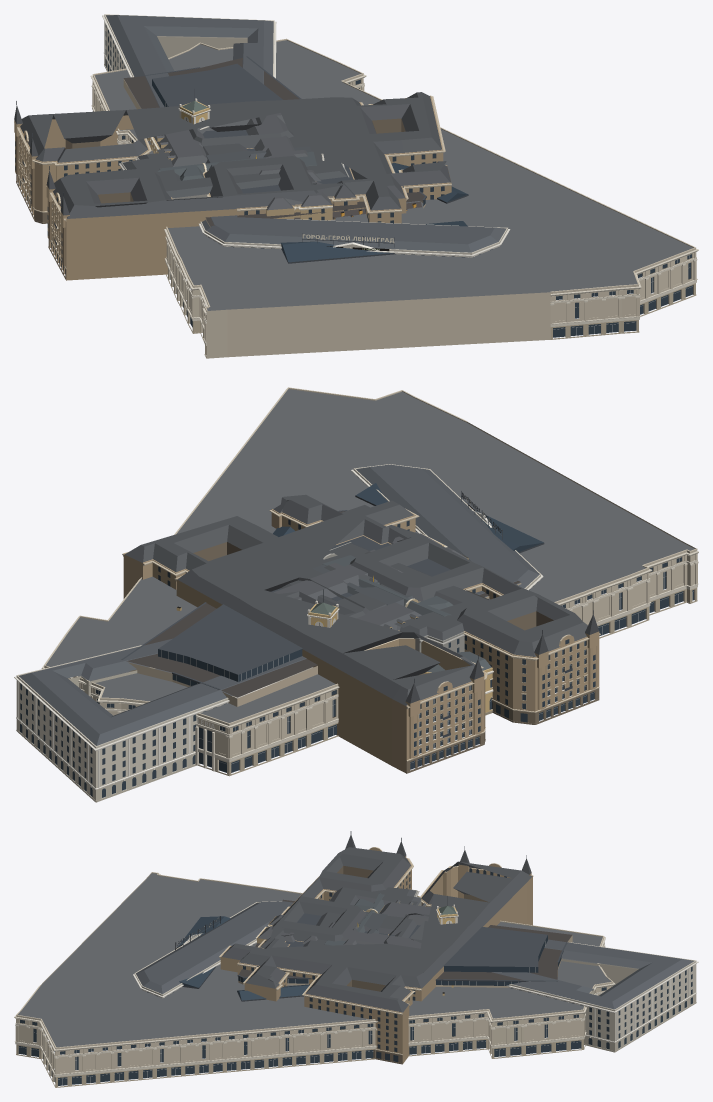
Rendered from ligovsky.glb.
3 renders of one model, top to bottom at view 1: azimuth 30°, elevation 25°; view 2: azimuth 150°, elevation 25°; view 3: azimuth 270°, elevation 25°, orthographic. The views are drawn at different scales.
Visible parts, largest first — view 1: hero__8522850_mesh, hero__1303159_mesh, hero__1598177_mesh, hero__1784115_mesh, hero__19186354_mesh, hero__953406_mesh, hero__56020036_mesh, hero__61580054_mesh, hero__2404499_mesh; view 2: hero__8522850_mesh, hero__1303159_mesh, hero__1598177_mesh, hero__1784115_mesh, hero__953406_mesh, hero__19186354_mesh, hero__2404499_mesh, hero__56020036_mesh, hero__61580054_mesh; view 3: hero__8522850_mesh, hero__1303159_mesh, hero__1598177_mesh, hero__1784115_mesh, hero__953406_mesh, hero__19186354_mesh, hero__56020036_mesh, hero__2404499_mesh.
Boxes of the visible parts, x1,y1,x2,y2 form: hero__8522850_mesh: (90,38,698,358); hero__1303159_mesh: (14,92,451,280); hero__1598177_mesh: (102,14,510,257); hero__1784115_mesh: (123,56,426,227); hero__19186354_mesh: (147,113,332,220); hero__953406_mesh: (119,133,349,198); hero__56020036_mesh: (157,151,324,180); hero__61580054_mesh: (202,146,317,172); hero__2404499_mesh: (178,89,210,129); hero__8522850_mesh: (41,387,698,776); hero__1303159_mesh: (122,494,600,773); hero__1598177_mesh: (14,464,543,802); hero__1784115_mesh: (121,510,521,748); hero__953406_mesh: (280,542,489,652); hero__19186354_mesh: (273,533,468,630); hero__2404499_mesh: (176,589,493,719); hero__56020036_mesh: (322,553,453,616); hero__61580054_mesh: (312,555,418,607); hero__8522850_mesh: (14,872,615,1087); hero__1303159_mesh: (219,831,533,1064); hero__1598177_mesh: (133,901,698,1052); hero__1784115_mesh: (237,899,572,1025); hero__953406_mesh: (303,887,421,946); hero__19186354_mesh: (255,900,430,948); hero__56020036_mesh: (324,893,384,945); hero__2404499_mesh: (417,896,466,1036).
Bounding box in the file's own units: 205 × 42.5 × 316.
